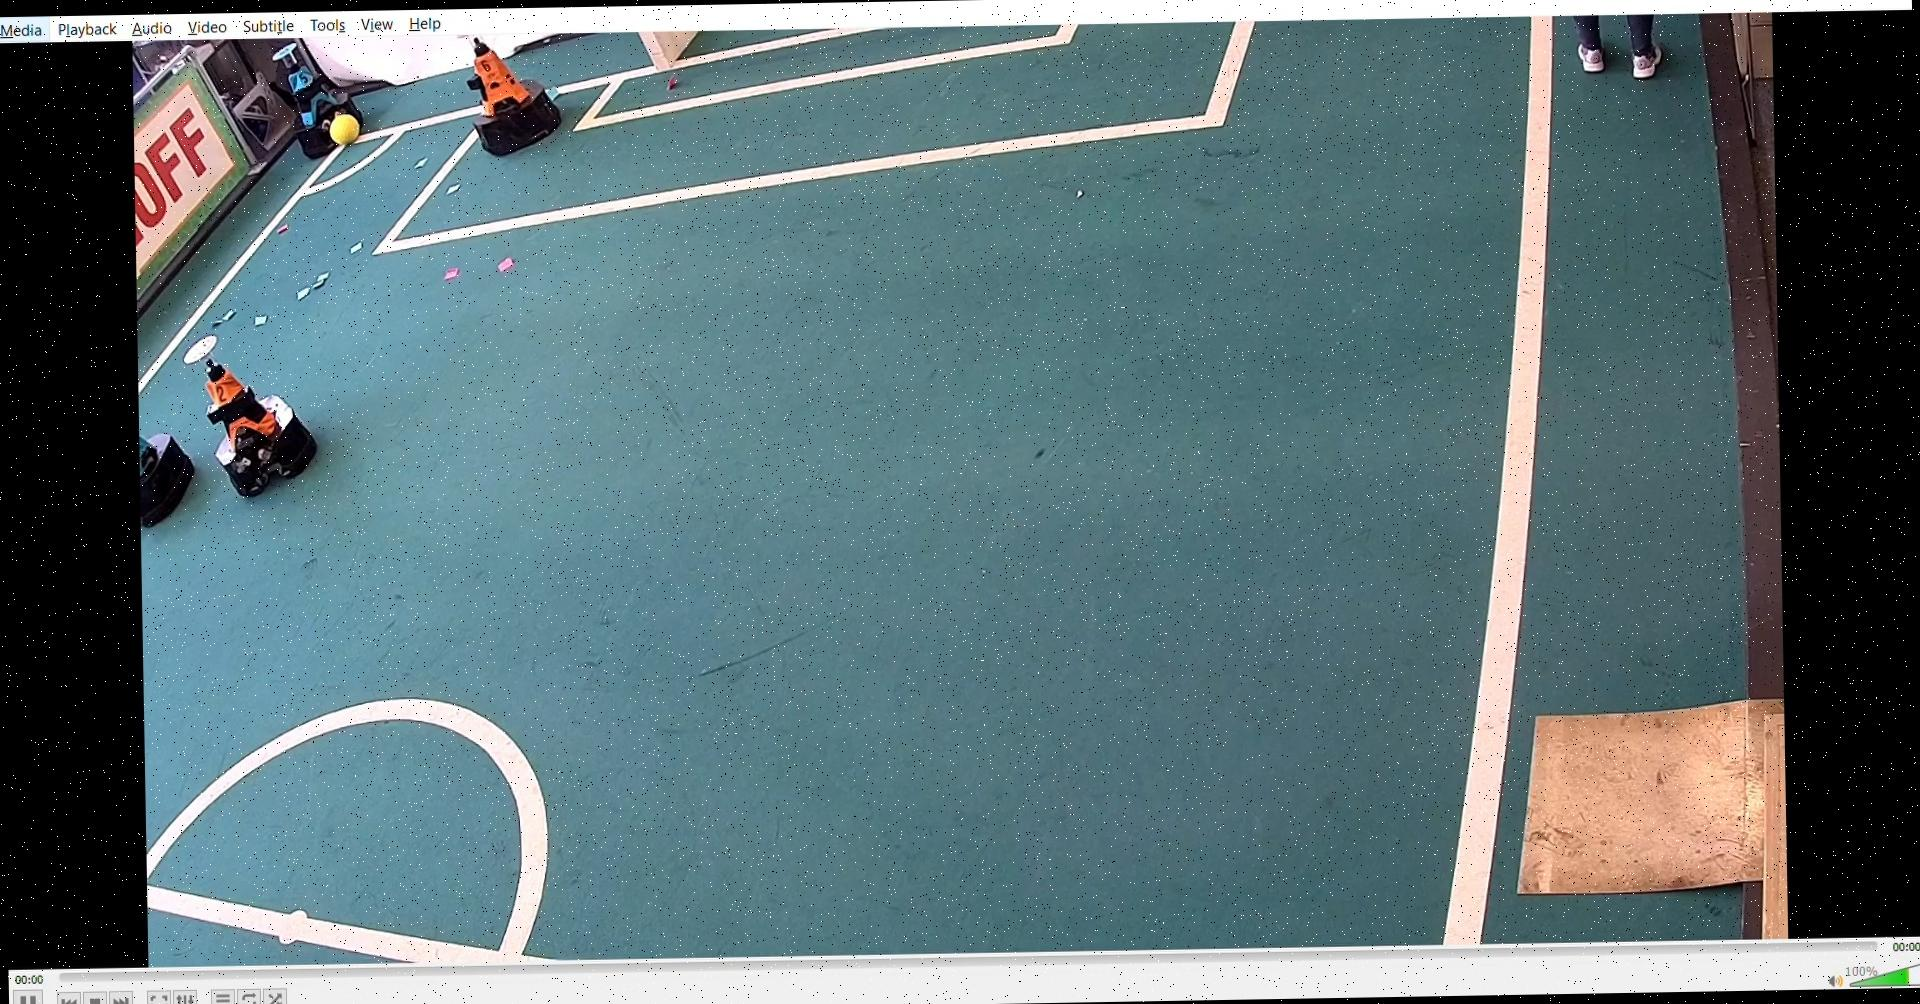Ball: (326, 110, 367, 145)
Team_Blue: (260, 42, 370, 154)
Team_Red: (177, 329, 321, 504), (457, 36, 569, 156)
